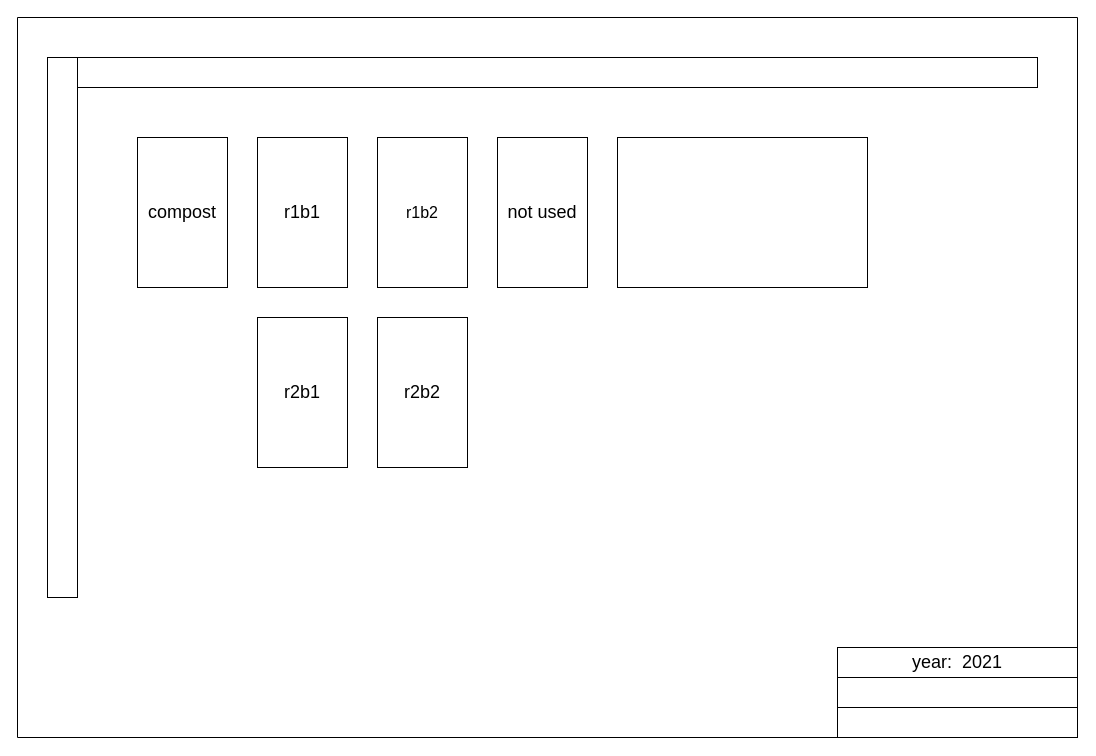
This 1096x756 diagram has some shape labels left out. Here are the shapes that lost their labels. From the top down, the centre of each, then its label:
At pixel 557 72: "fence".
At pixel 742 212: "shed".
At pixel 957 722: "location: yard view".
